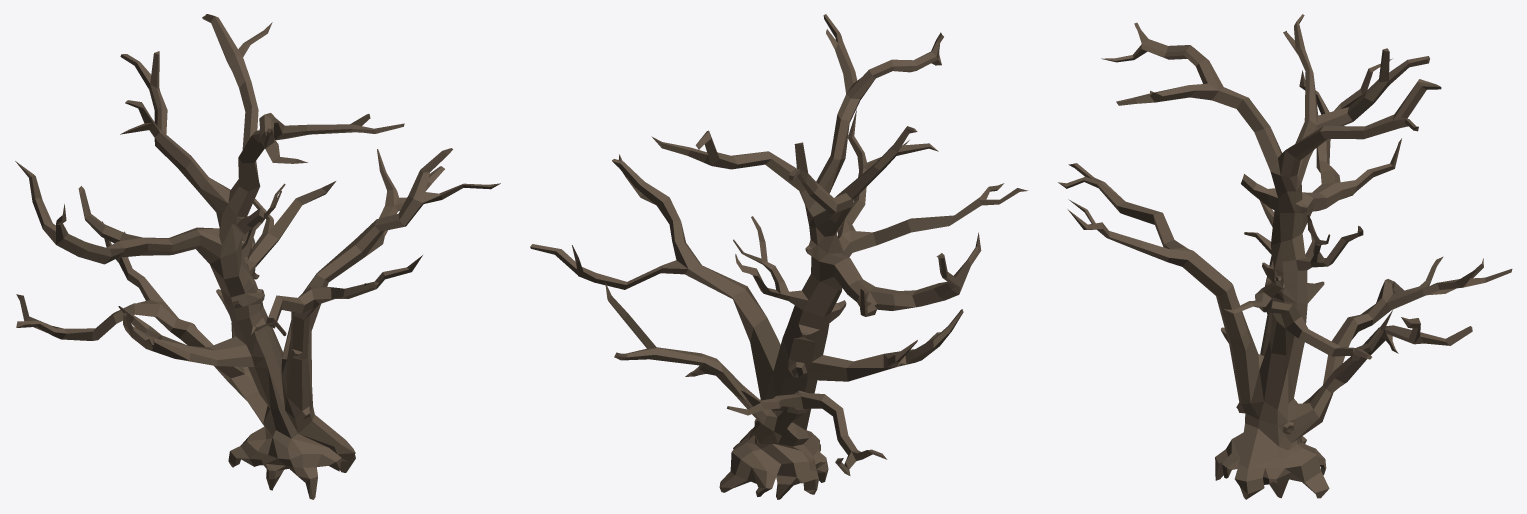
Rendered from sc-dead-tree.glb.
3 renders of one model, left to right at view 1: azimuth 30°, elevation 25°; view 2: azimuth 150°, elevation 25°; view 3: azimuth 270°, elevation 25°, orthographic.
Parts seen in each view (by area): view 1: SM_Env_Tree_Dead_01; view 2: SM_Env_Tree_Dead_01; view 3: SM_Env_Tree_Dead_01.
Part boxes in pixels (x1,y1,x2,y2): SM_Env_Tree_Dead_01: (15, 14, 500, 499); SM_Env_Tree_Dead_01: (530, 14, 1028, 499); SM_Env_Tree_Dead_01: (1058, 14, 1512, 499).
Bounding box in the file's own units: 8.28 × 8 × 7.9.
Materials: 1 (1 with a texture image).
